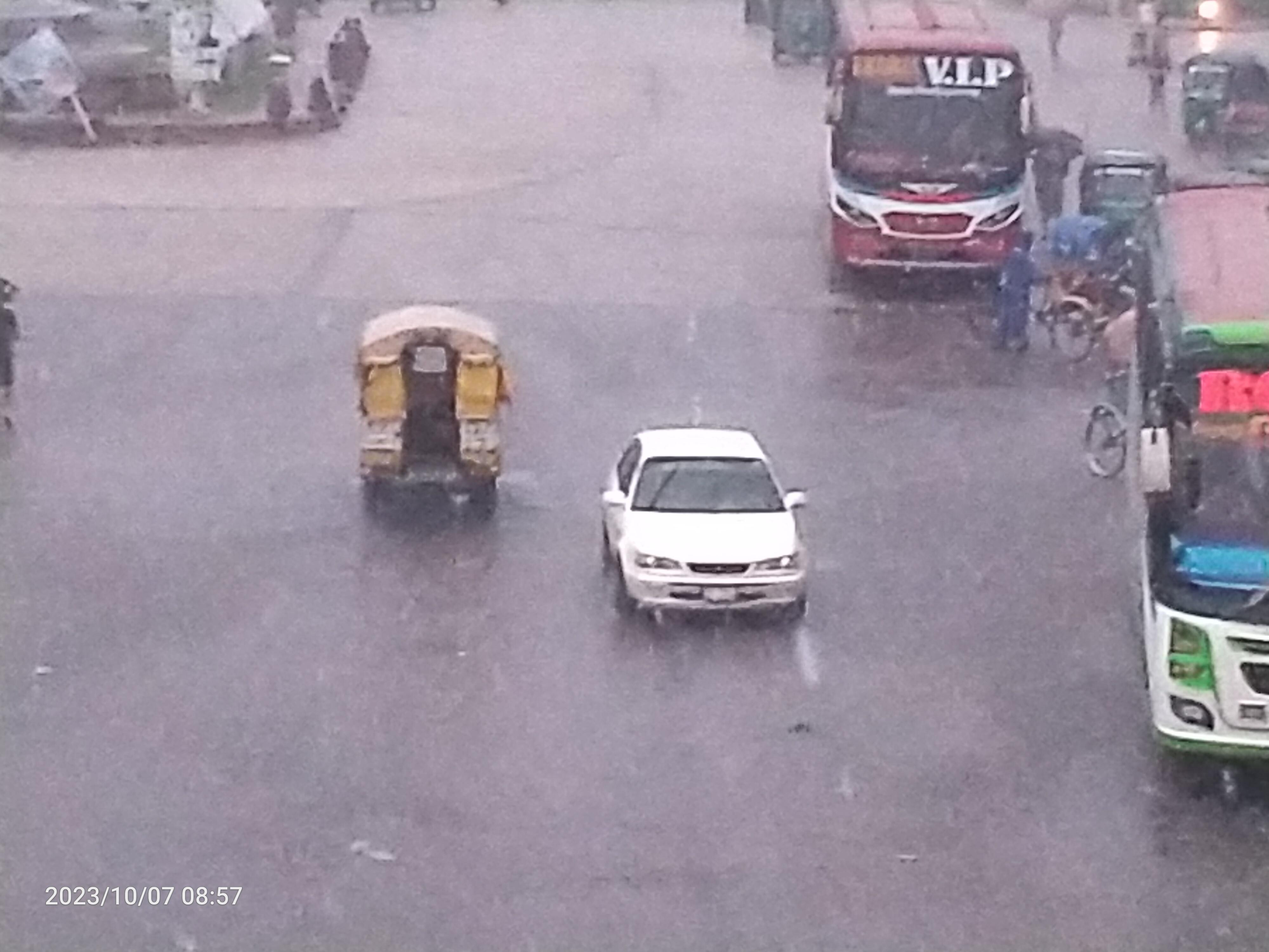Bus: (1110, 160, 1269, 807), (804, 0, 1055, 327)
Car: (575, 393, 849, 671), (320, 285, 536, 600), (953, 202, 1157, 399)
